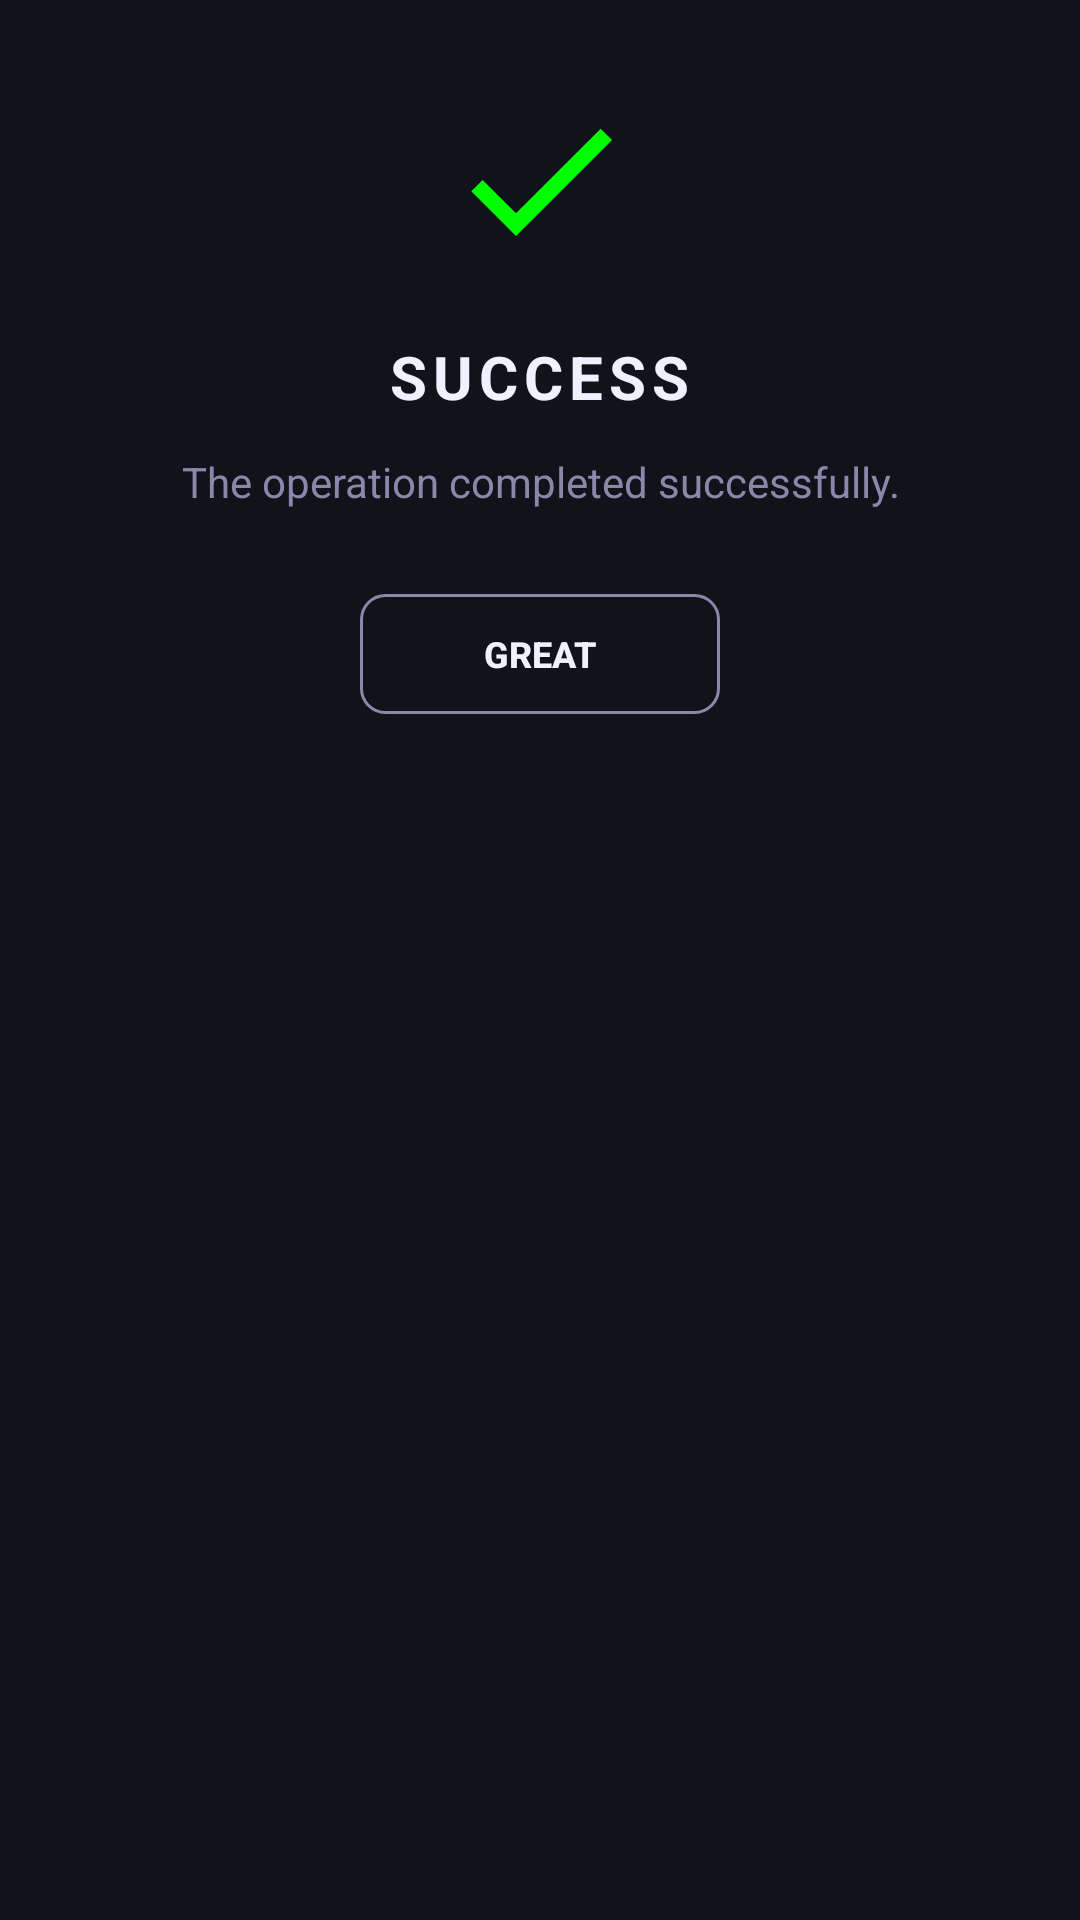

Where to tap for icons on this 1080×1920 app screen, as (x,y):
Status Icon: (541,182)
